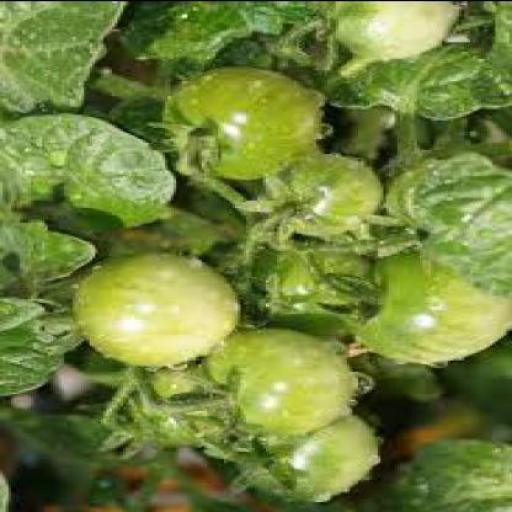biodegradable: (0, 1, 511, 511), (68, 251, 238, 371), (156, 70, 319, 181), (355, 250, 509, 363), (201, 326, 344, 438), (229, 411, 381, 505), (252, 154, 380, 242), (243, 236, 381, 316), (325, 2, 459, 74), (134, 362, 227, 442)
